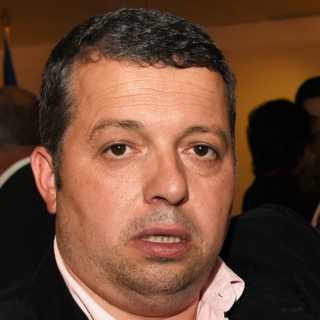eye: (96, 138, 142, 164), (181, 139, 223, 164)
